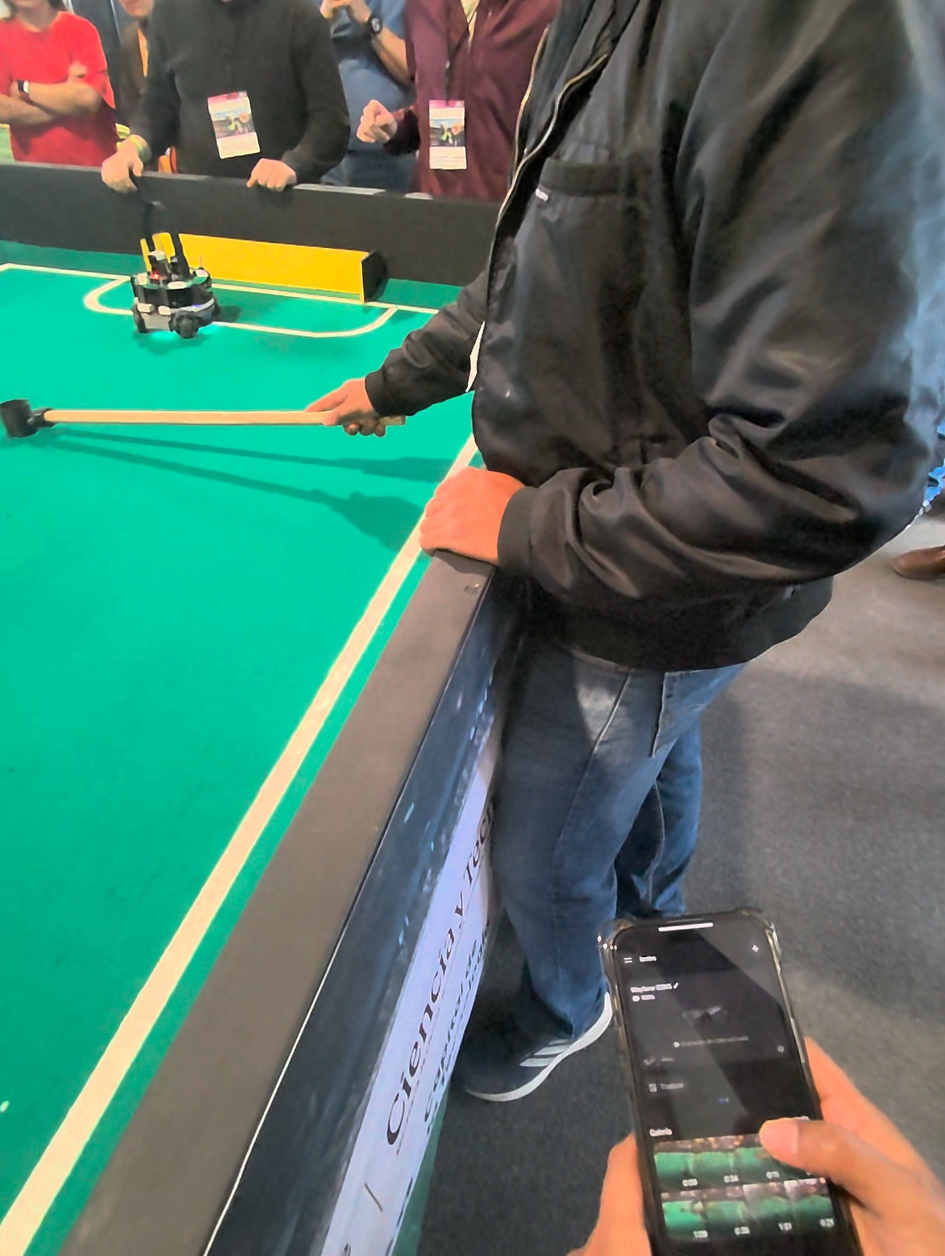Robot: (128, 203, 223, 360)
